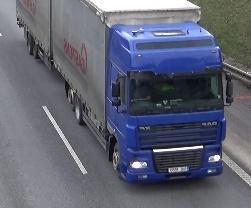Truck: (16, 0, 232, 179)
